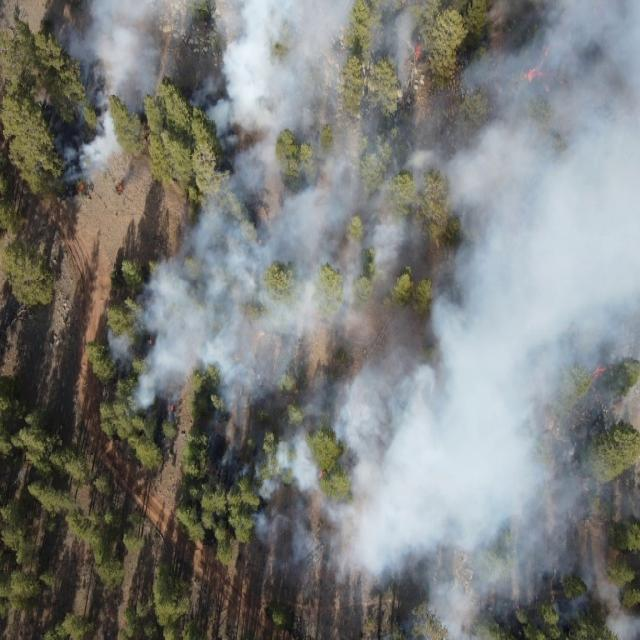fire: (536, 41, 556, 68), (519, 68, 556, 82), (592, 364, 612, 380), (413, 42, 425, 64), (166, 403, 177, 417), (74, 180, 85, 192), (514, 603, 524, 613), (146, 338, 156, 347), (317, 470, 326, 480), (544, 84, 552, 95), (116, 183, 125, 191), (257, 237, 263, 247)
smoke: (198, 0, 444, 496), (446, 91, 640, 506), (38, 0, 195, 199), (249, 497, 446, 579), (463, 0, 640, 90), (446, 507, 618, 575), (402, 576, 547, 640), (587, 577, 640, 640), (549, 574, 588, 622)
